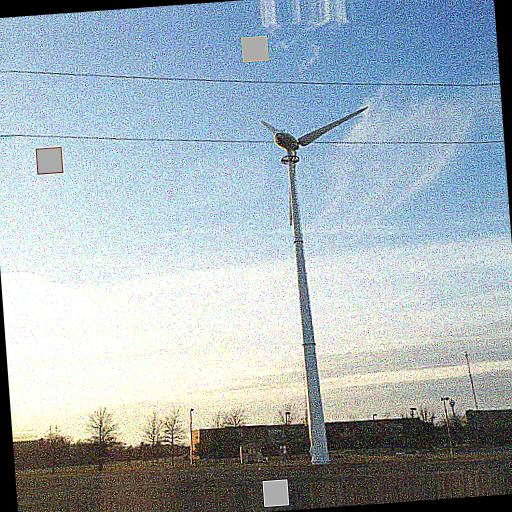wind turbine: (258, 107, 369, 460)
